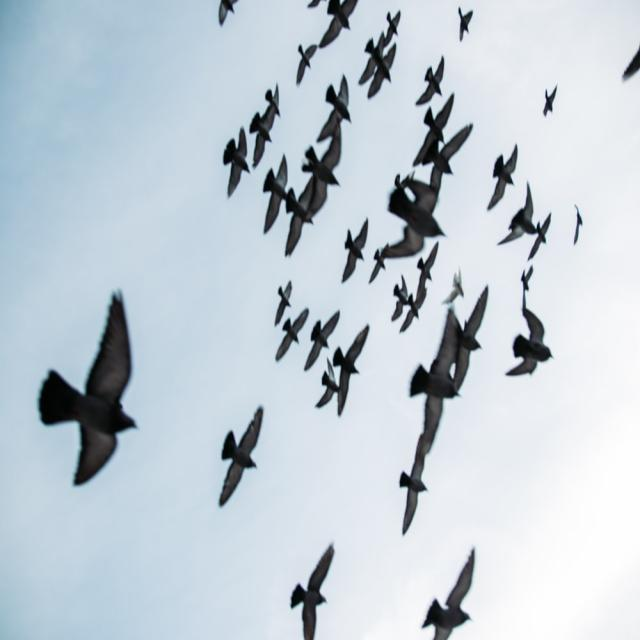bird: (39, 287, 145, 492), (411, 308, 464, 454), (419, 544, 478, 640), (382, 174, 444, 262), (297, 124, 345, 223), (220, 404, 262, 511), (505, 293, 553, 382), (290, 545, 333, 640), (427, 124, 472, 206), (457, 281, 487, 398), (332, 324, 367, 412), (398, 443, 429, 539), (414, 91, 454, 161), (282, 174, 316, 256), (317, 70, 353, 141), (263, 156, 291, 236), (304, 308, 336, 372), (487, 146, 518, 208), (508, 184, 540, 243), (224, 128, 250, 198), (368, 45, 398, 104), (276, 305, 308, 360), (344, 219, 370, 286), (415, 55, 446, 109), (247, 107, 274, 166), (414, 242, 443, 296), (361, 32, 387, 84), (317, 356, 339, 413), (400, 290, 432, 328), (294, 40, 320, 84), (532, 211, 556, 256), (387, 276, 408, 323), (274, 279, 296, 323), (326, 1, 358, 30), (259, 86, 282, 126), (371, 241, 390, 286), (570, 201, 586, 252), (449, 270, 467, 310), (218, 0, 242, 29), (458, 6, 476, 42), (625, 41, 640, 84), (543, 84, 561, 118), (386, 9, 404, 42), (518, 266, 533, 304)
